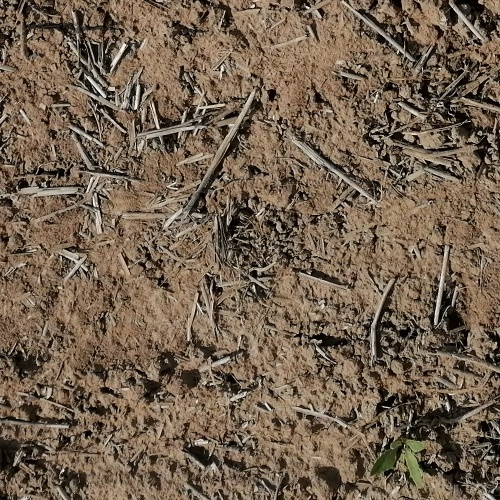beet: (368, 436, 427, 489)
